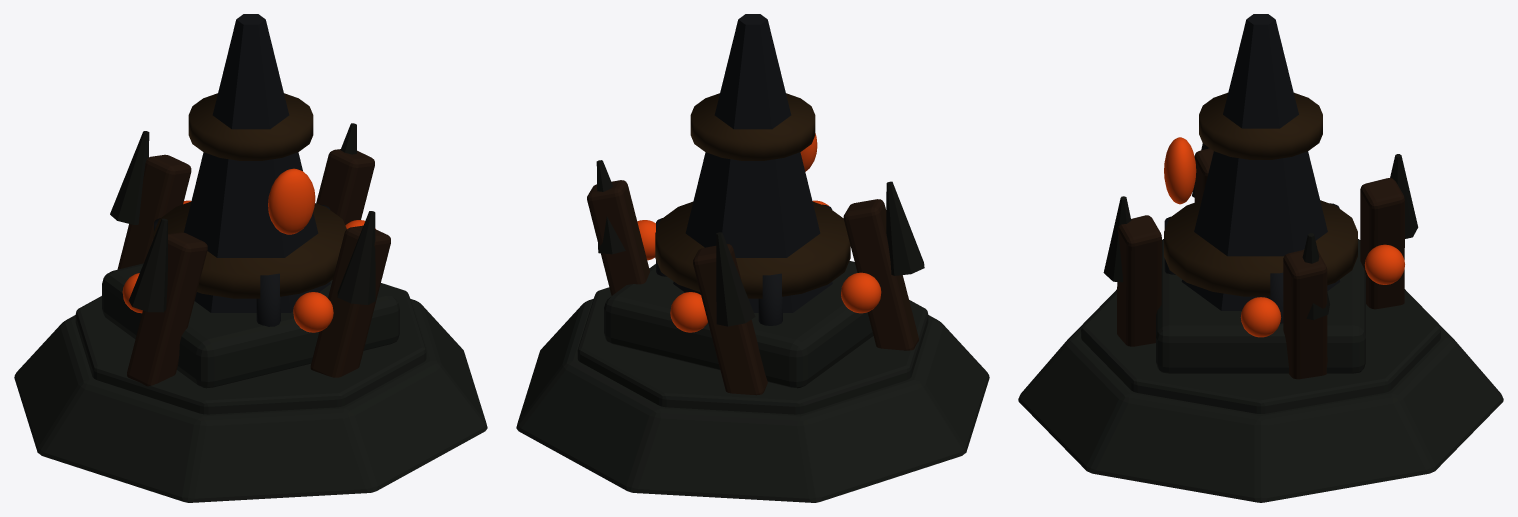
Rendered from TowerCorrupt2_pose.obj.
3 renders of one model, left to right at view 1: azimuth 30°, elevation 25°; view 2: azimuth 150°, elevation 25°; view 3: azimuth 270°, elevation 25°, orthographic.
Visible parts, largest first — view 1: weathered_stone_dais_lower_course, dark_obelisk_core, weathered_stone_dais_upper_course, blackstone_foot, bronze_binding_ring, oak_ritual_brace.002, bronze_upper_ring, oak_ritual_brace.003, oak_ritual_brace.001, oak_ritual_brace, amber_runic_heart, bone_ward_spike.003 (+4 smaller); view 2: weathered_stone_dais_lower_course, dark_obelisk_core, blackstone_foot, weathered_stone_dais_upper_course, bronze_binding_ring, oak_ritual_brace.002, bronze_upper_ring, oak_ritual_brace.001, oak_ritual_brace, bone_ward_spike.001, bone_ward_spike.002, bound_amber_pebble.002 (+4 smaller); view 3: weathered_stone_dais_lower_course, dark_obelisk_core, weathered_stone_dais_upper_course, blackstone_foot, bronze_binding_ring, oak_ritual_brace.003, oak_ritual_brace, bronze_upper_ring, oak_ritual_brace.001, amber_runic_heart, bound_amber_pebble, bound_amber_pebble.001 (+4 smaller).
Boxes of the visible parts, bbox=[...] form: weathered_stone_dais_lower_course: bbox=[14, 299, 487, 502]; dark_obelisk_core: bbox=[184, 14, 330, 312]; weathered_stone_dais_upper_course: bbox=[75, 283, 426, 414]; blackstone_foot: bbox=[102, 263, 399, 388]; bronze_binding_ring: bbox=[153, 201, 346, 298]; oak_ritual_brace.002: bbox=[127, 232, 207, 386]; bronze_upper_ring: bbox=[188, 93, 313, 160]; oak_ritual_brace.003: bbox=[310, 225, 390, 377]; oak_ritual_brace.001: bbox=[117, 154, 191, 269]; oak_ritual_brace: bbox=[316, 149, 374, 224]; amber_runic_heart: bbox=[268, 168, 315, 234]; bone_ward_spike.003: bbox=[337, 211, 375, 304]; weathered_stone_dais_lower_course: bbox=[516, 299, 989, 502]; dark_obelisk_core: bbox=[673, 14, 832, 312]; blackstone_foot: bbox=[604, 261, 873, 388]; weathered_stone_dais_upper_course: bbox=[577, 287, 928, 414]; bronze_binding_ring: bbox=[655, 201, 850, 298]; oak_ritual_brace.002: bbox=[843, 199, 918, 350]; bronze_upper_ring: bbox=[690, 93, 815, 160]; oak_ritual_brace.001: bbox=[693, 244, 767, 395]; oak_ritual_brace: bbox=[587, 180, 649, 295]; bone_ward_spike.001: bbox=[716, 232, 755, 326]; bone_ward_spike.002: bbox=[886, 181, 924, 275]; bound_amber_pebble.002: bbox=[841, 272, 881, 313]; weathered_stone_dais_lower_course: bbox=[1018, 289, 1503, 502]; dark_obelisk_core: bbox=[1181, 14, 1340, 310]; weathered_stone_dais_upper_course: bbox=[1081, 291, 1440, 413]; blackstone_foot: bbox=[1156, 239, 1365, 373]; bronze_binding_ring: bbox=[1164, 200, 1357, 296]; oak_ritual_brace.003: bbox=[1117, 215, 1161, 346]; oak_ritual_brace: bbox=[1283, 250, 1327, 379]; bronze_upper_ring: bbox=[1199, 92, 1322, 159]; oak_ritual_brace.001: bbox=[1360, 178, 1404, 309]; amber_runic_heart: bbox=[1164, 137, 1196, 204]; bound_amber_pebble: bbox=[1240, 297, 1281, 337]; bound_amber_pebble.001: bbox=[1364, 244, 1404, 284].
Size of the model in its own units: 1.8 by 1.57 by 1.8.
